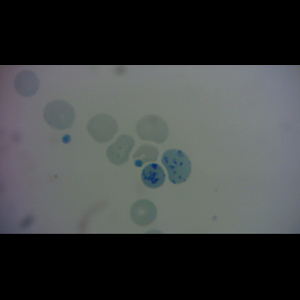aggregate reticulocyte: (160, 148, 193, 185), (140, 162, 167, 189)
erythrocyte: (135, 114, 170, 145), (43, 99, 75, 130), (86, 112, 118, 143), (128, 198, 158, 227), (13, 70, 40, 97), (131, 143, 160, 168)
punctate reticulocyte: (105, 133, 136, 166)
